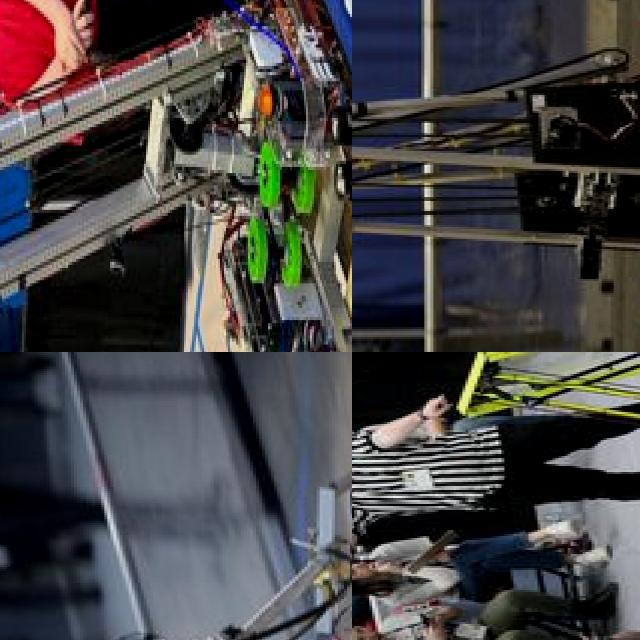FRC-Robots: (0, 0, 352, 352), (352, 0, 640, 352), (81, 433, 352, 640), (459, 352, 640, 532)
